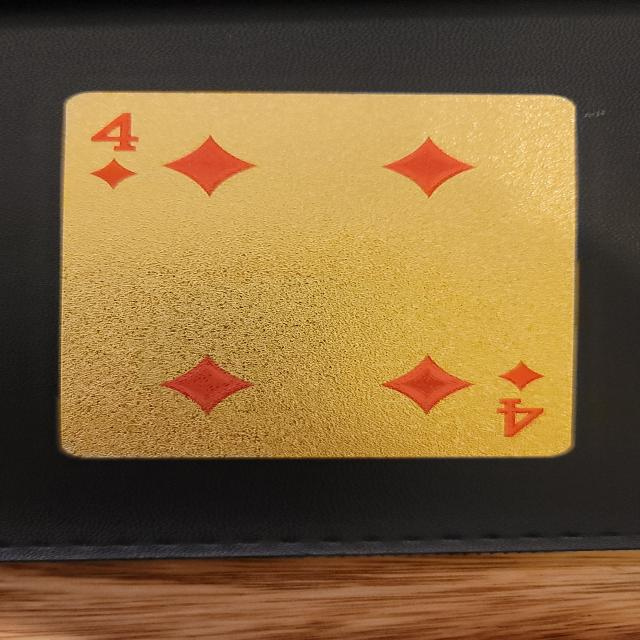4 of diamonds: (61, 91, 580, 459)
